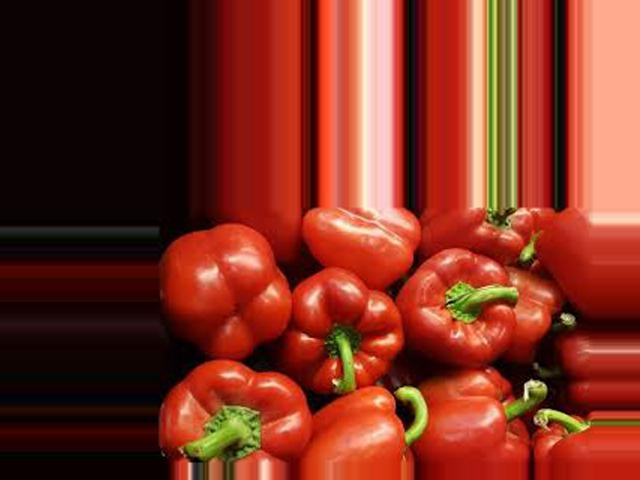bell_pepper: (296, 209, 416, 276)
